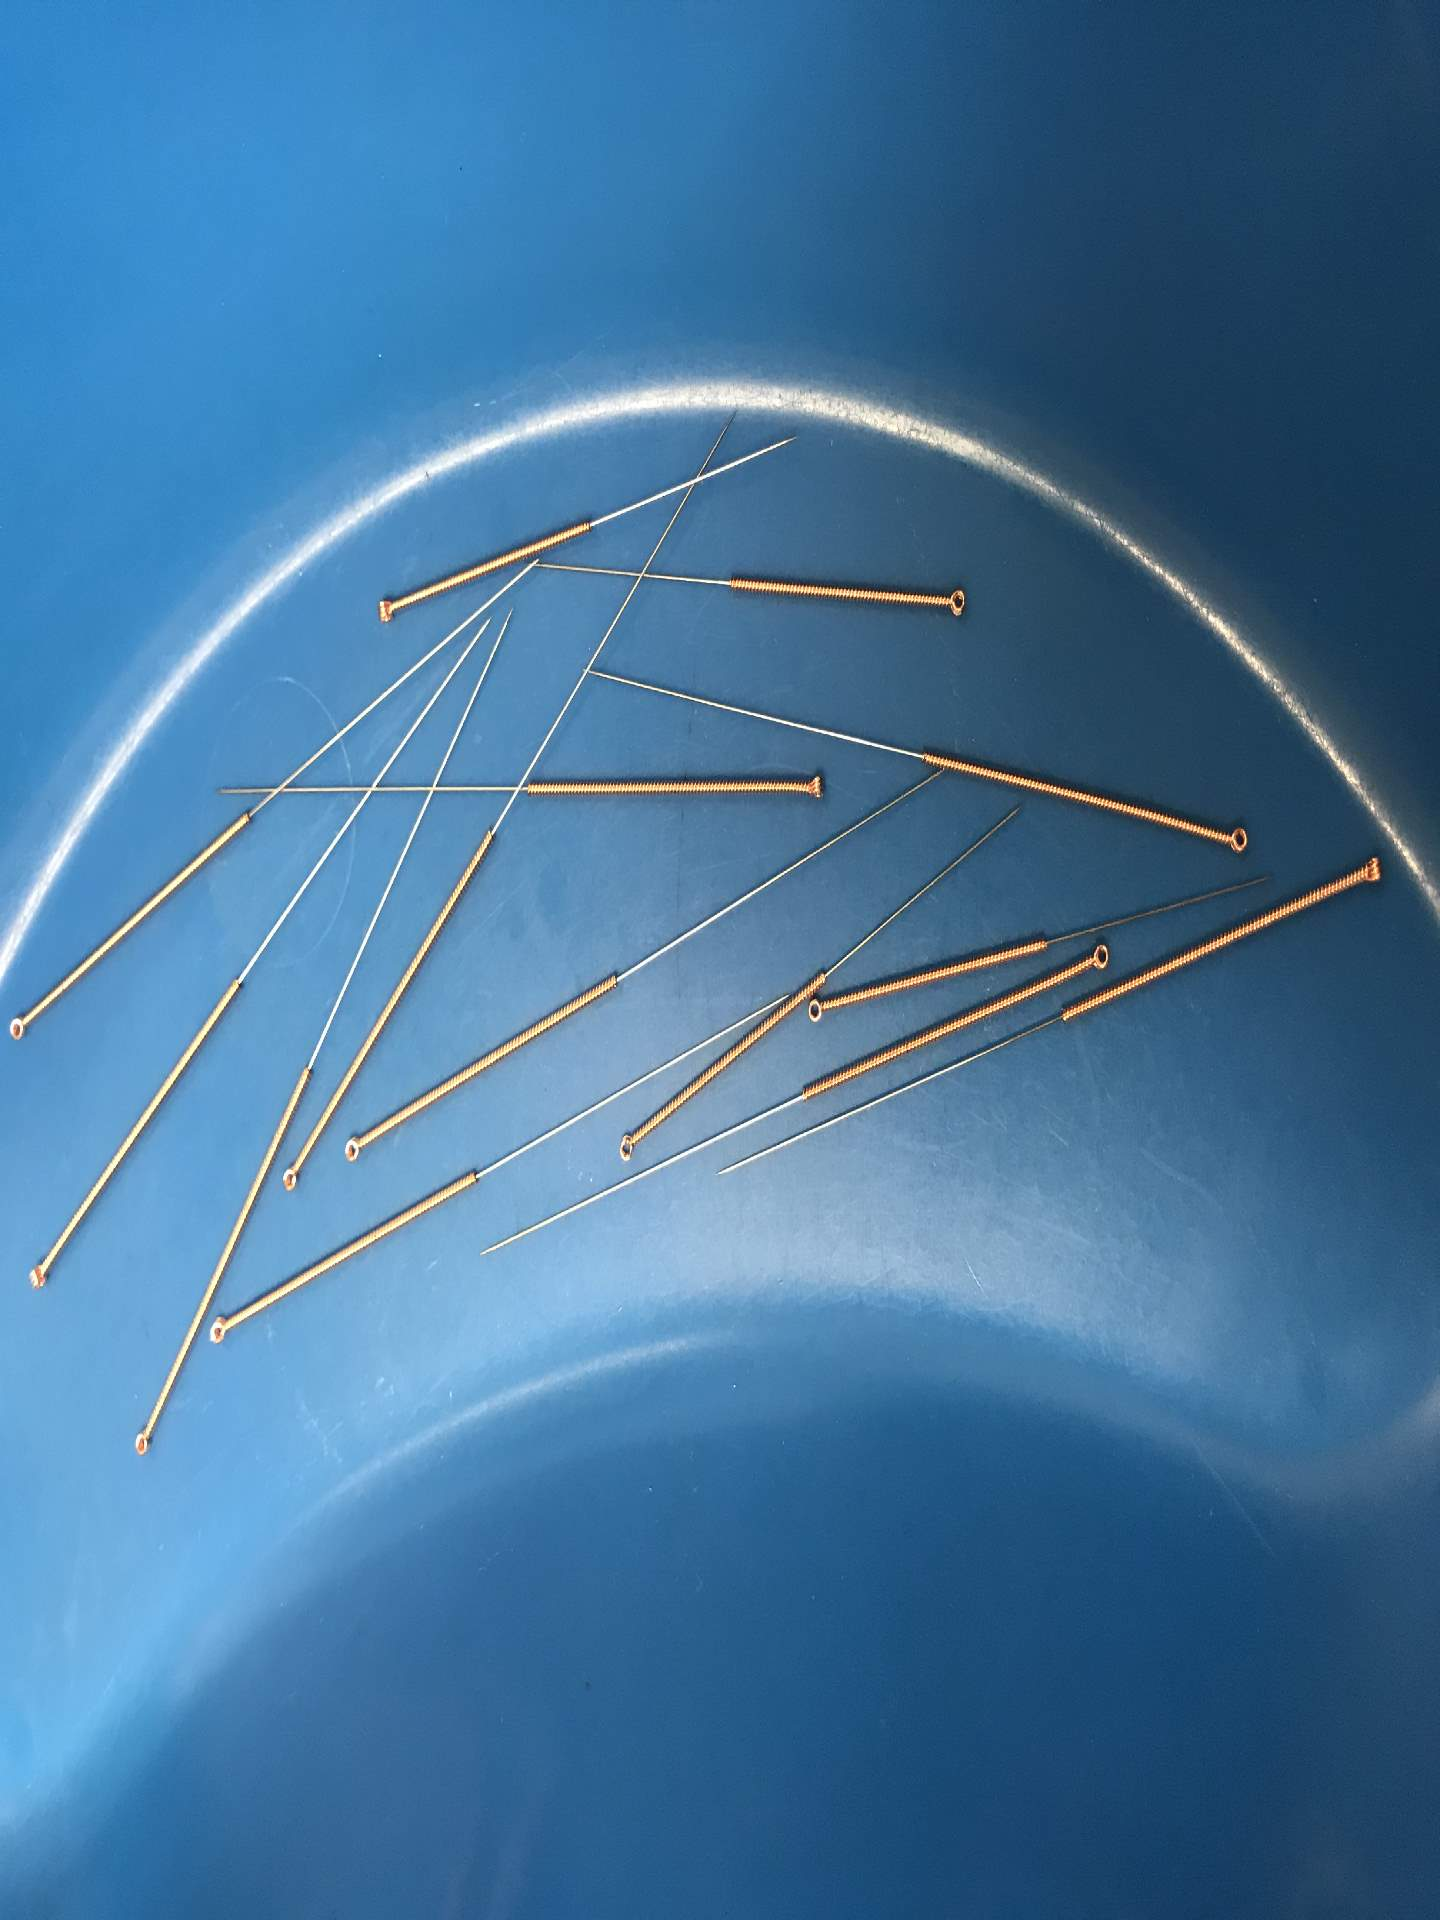needle: (1352, 850, 1389, 889), (936, 584, 970, 621), (1221, 819, 1252, 859), (336, 1129, 368, 1169), (127, 1420, 157, 1460), (797, 770, 830, 806), (1082, 937, 1113, 975), (21, 1258, 53, 1296), (3, 1008, 33, 1045), (203, 1314, 231, 1352), (613, 1129, 641, 1166), (371, 593, 399, 627), (275, 1161, 303, 1196), (802, 993, 827, 1025)
